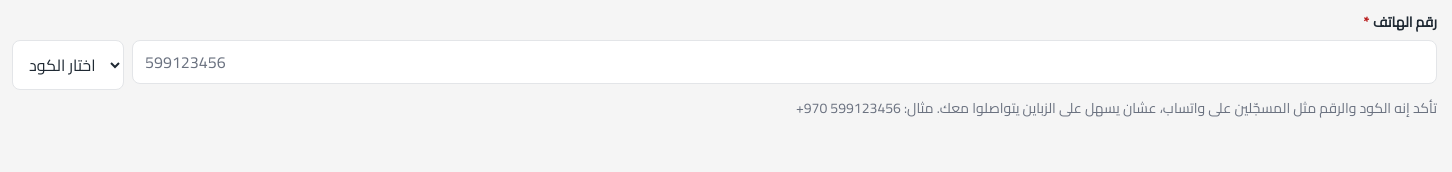
it: PhoneField › requires a code choice for Palestinian numbers
Type "0590000000" into the field labelled "رقم الهاتف*" at (784, 62), box [132,40,1437,84]
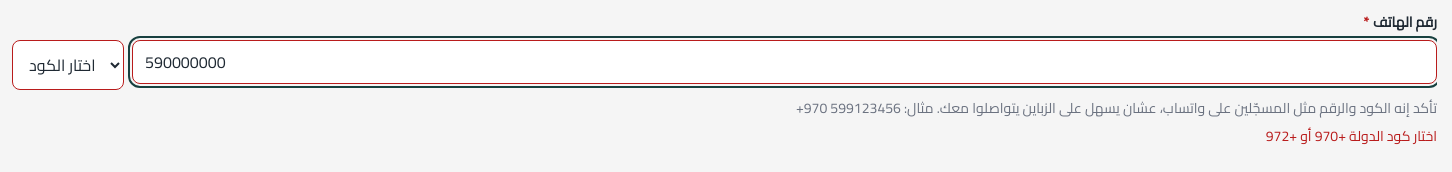
Expected: the field labelled "رقم الهاتف*" holds "590000000", [132,40,1437,84]
Expected: the message reads "اختار كود الدولة +970 أو +972", [1266,123,1437,149]
Select "+970" in the dropdown named "كود الدولة" at (68, 65), box [12,40,124,90]
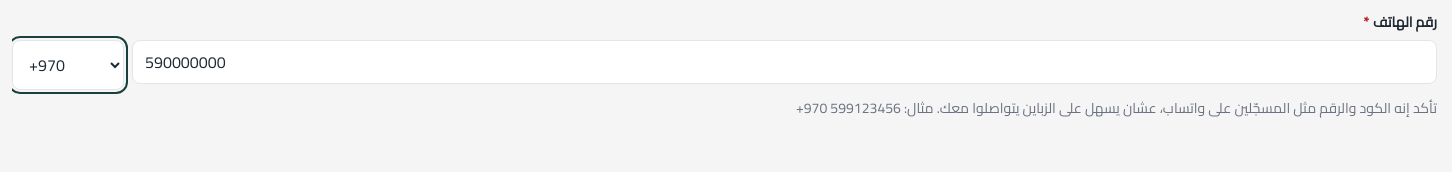
Expected: the message "اختار كود الدولة +970 أو +972" is gone
